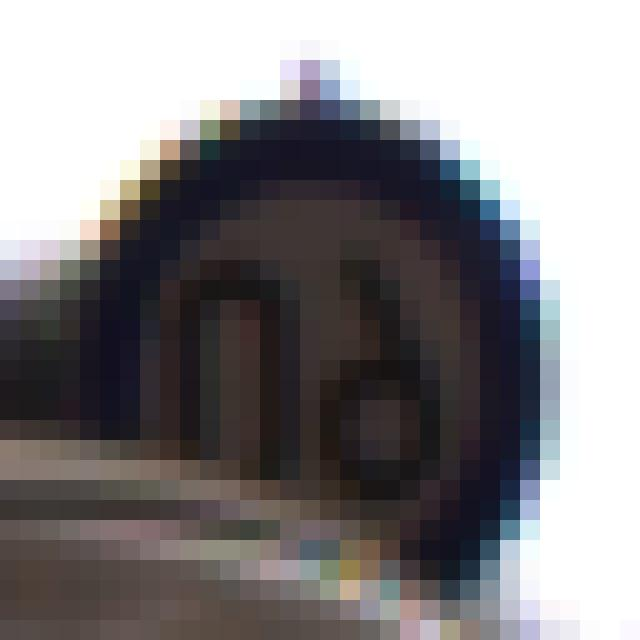SPEED-LIMIT-60: (61, 96, 562, 612)
